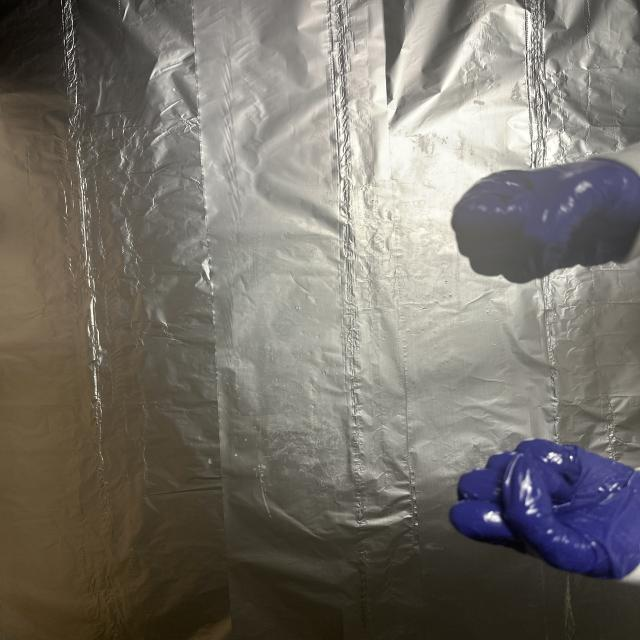gloves_contaminated: (450, 439, 640, 579), (452, 157, 640, 283)
